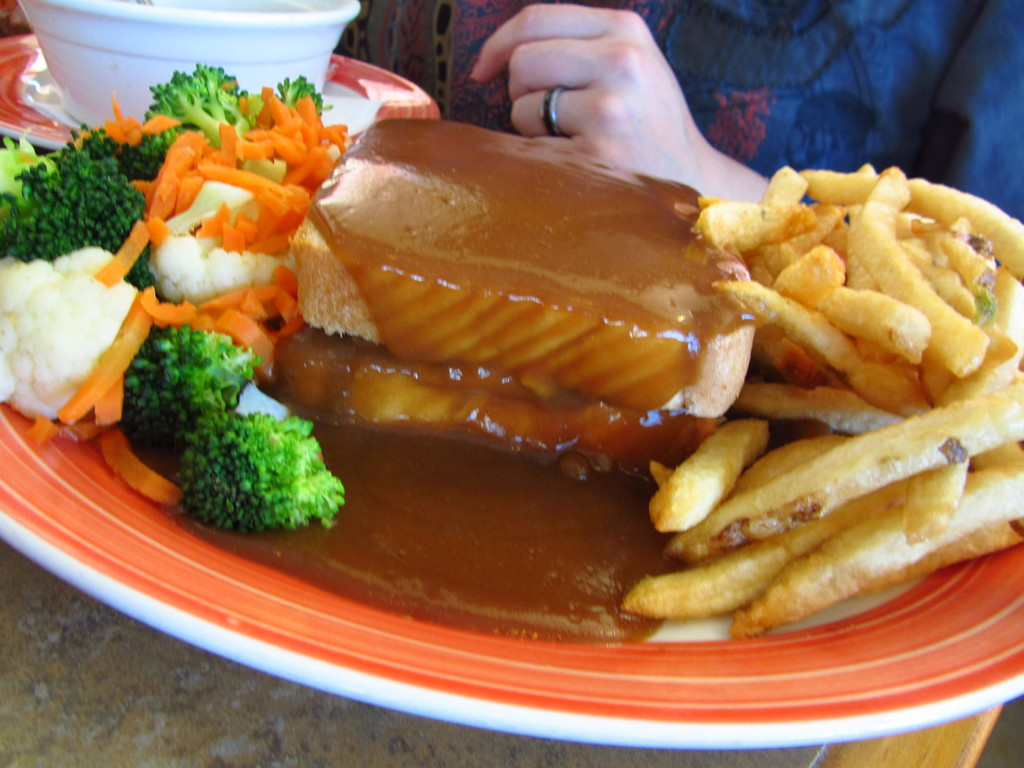French fries: (642, 144, 1016, 643)
